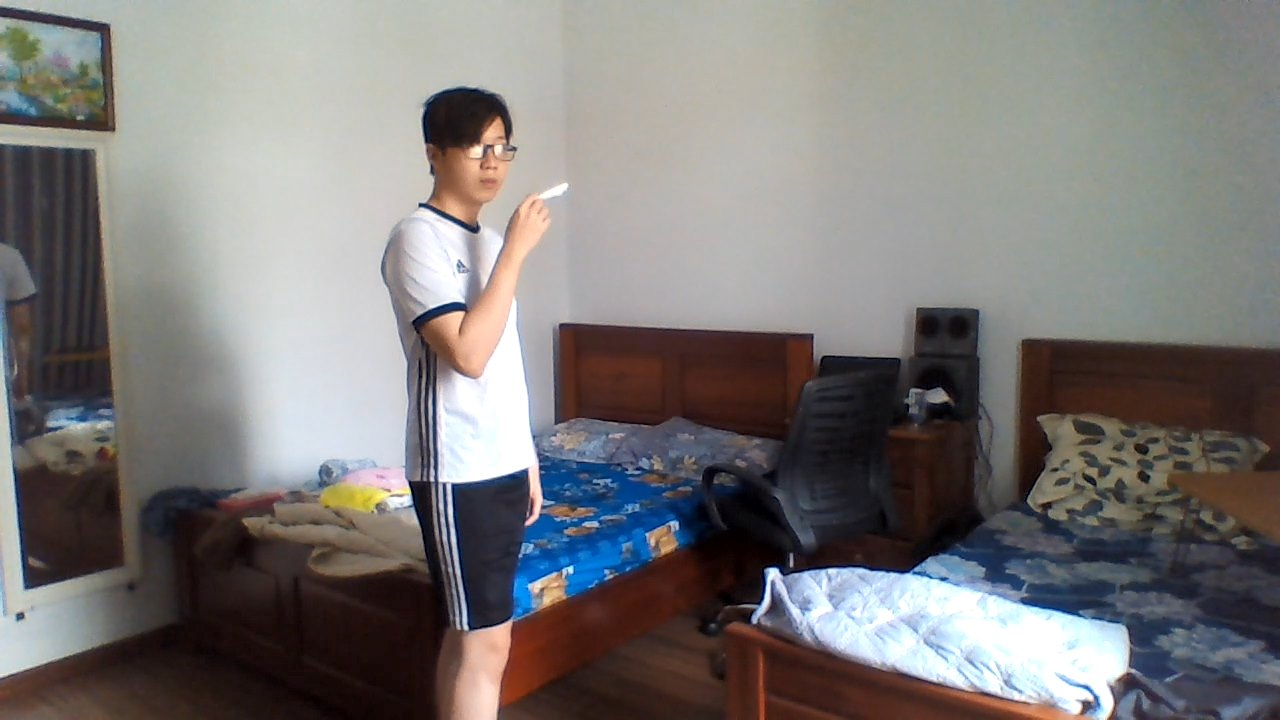cigarette: (534, 180, 570, 200)
person: (349, 76, 574, 720)
